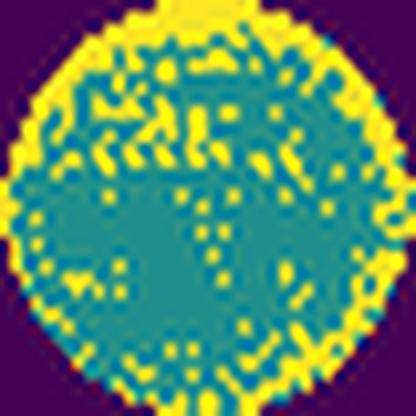Edge-Loc: (0, 0, 415, 242), (226, 247, 405, 416)
